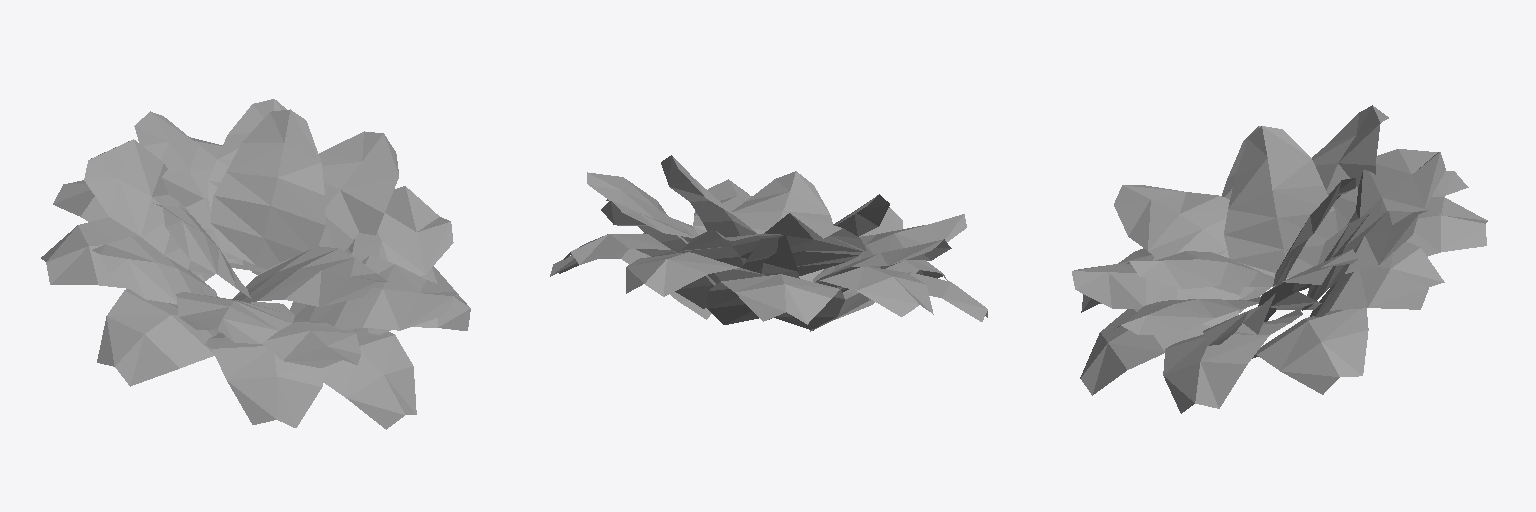
File: Plant_1.obj
The picture shows the model from 3 angles: view 1: azimuth 30°, elevation 25°; view 2: azimuth 150°, elevation 25°; view 3: azimuth 270°, elevation 25°; orthographic projection.
Parts seen in each view (by area): view 1: Plant_1_Plane.061; view 2: Plant_1_Plane.061; view 3: Plant_1_Plane.061.
Boxes of the visible parts, box(x1,y1,x2,y2) form: Plant_1_Plane.061: box(41, 99, 470, 429); Plant_1_Plane.061: box(550, 155, 987, 331); Plant_1_Plane.061: box(1072, 105, 1487, 413).
Size of the model in its own units: 1.24 by 0.6862 by 1.2.